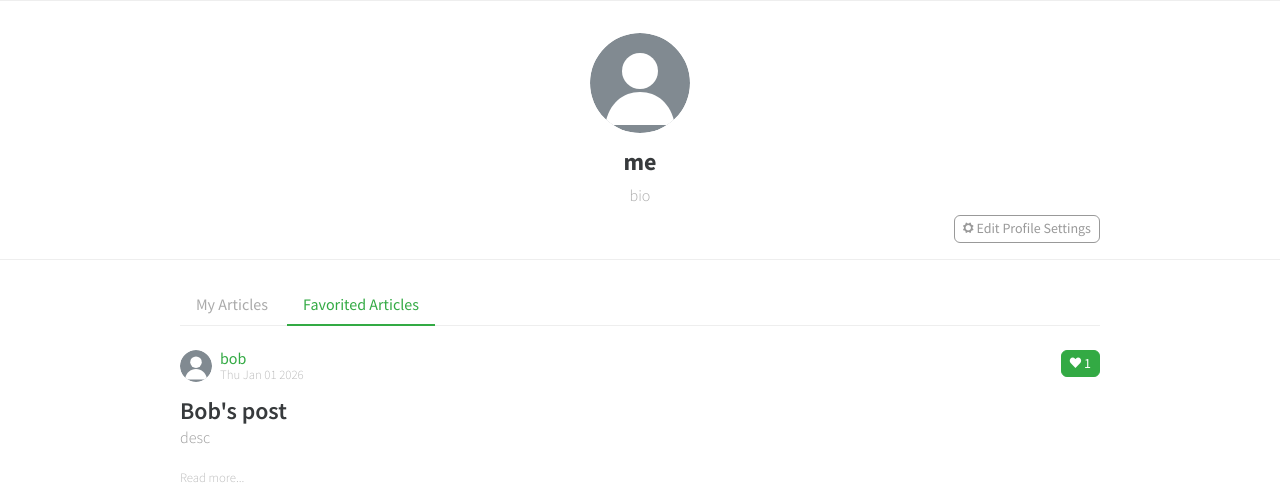
Test case: Profile › removes the article from my own Favorited tab when I unfavorite it
The image size is (1280, 499).
Click the button "1" at [1080, 364], box left=1061, top=350, right=1100, bottom=377
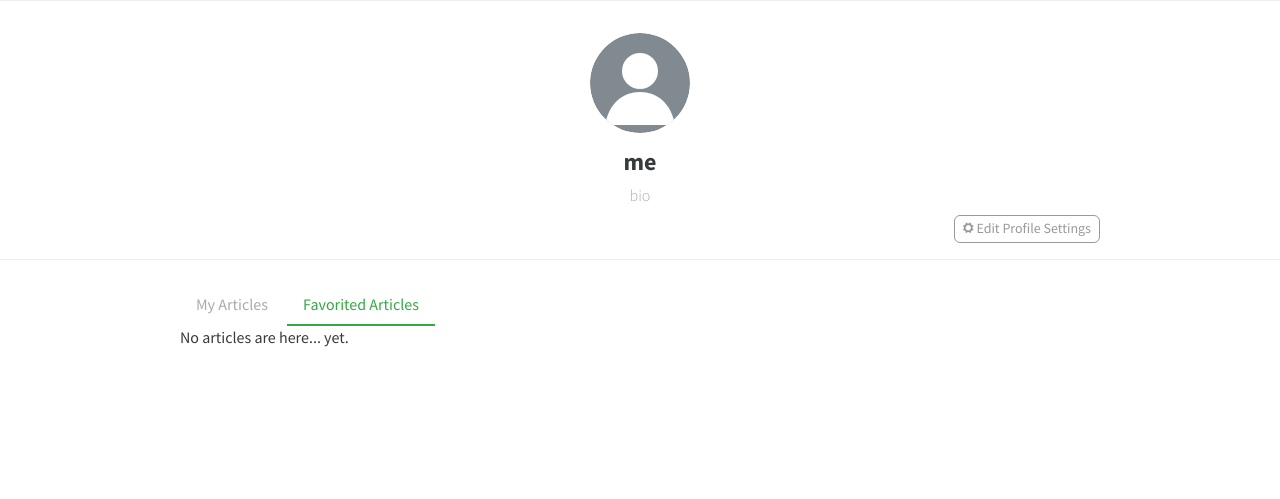
Expected: no elements with class "article-preview" are shown
Expected: the text "No articles are here... yet." is shown, left=180, top=327, right=349, bottom=347
